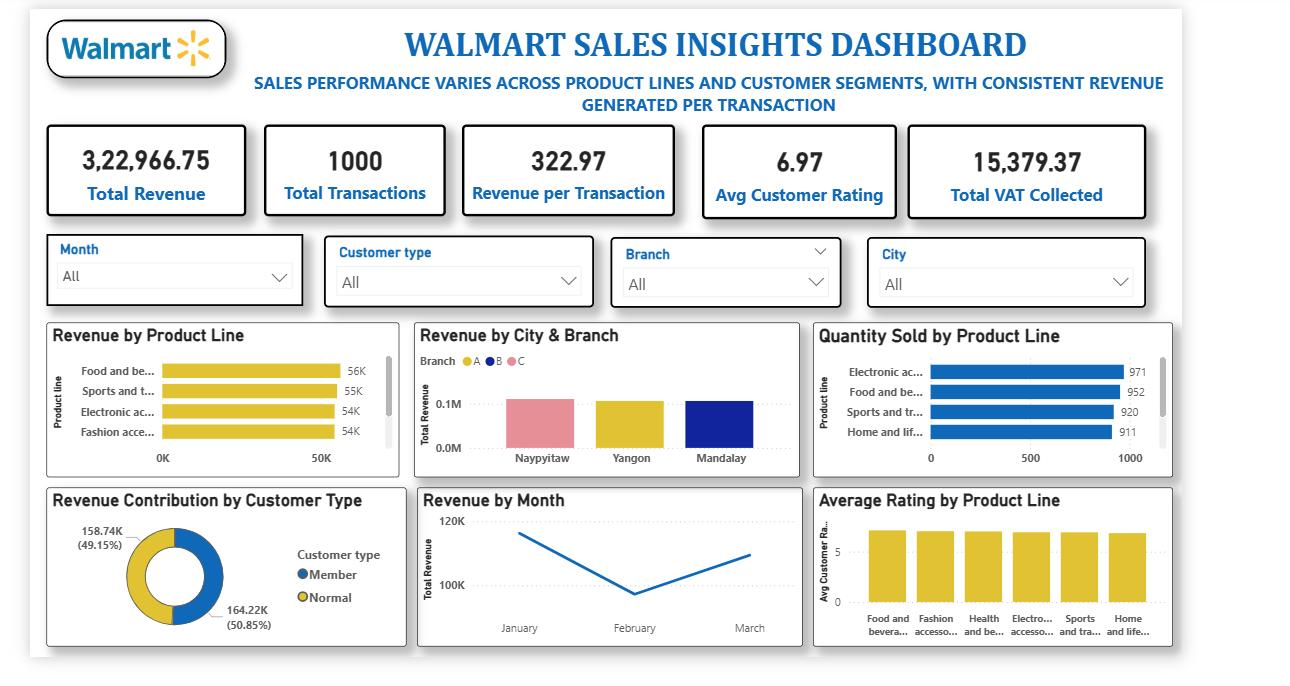

Layout of this report page (visuals, bound fields, positions):
{"tool":"powerbi","page":{"name":"Page 1","canvas":[1280,720],"ordinal":0},"visuals":[{"type":"barChart","title":"Revenue by Product Line","fields":{"Category":["WalmartSalesData.Product line"],"Y":["WalmartSalesData.Total_Revenue"]},"box":[18.3,348.3,391.7,171.7],"z":0},{"type":"lineChart","title":"Revenue by Month","fields":{"Category":["WalmartSalesData.Date.Variation.Date Hierarchy.Month"],"Y":["WalmartSalesData.Total_Revenue"]},"box":[430,531.7,428.3,176.7],"z":1000},{"type":"columnChart","title":"Revenue by City & Branch","fields":{"Category":["WalmartSalesData.City"],"Series":["WalmartSalesData.Branch"],"Y":["WalmartSalesData.Total_Revenue"]},"box":[426.7,348.3,428.3,171.7],"z":2000},{"type":"donutChart","title":"Revenue Contribution by Customer Type","fields":{"Category":["WalmartSalesData.Customer type"],"Y":["WalmartSalesData.Total_Revenue"]},"box":[18.3,531.7,400,176.7],"z":3000},{"type":"barChart","title":"Quantity Sold by Product Line","fields":{"Y":["Sum(WalmartSalesData.Quantity)"],"Category":["WalmartSalesData.Product line"]},"box":[870,348.3,400,171.7],"z":4000},{"type":"columnChart","title":"Average Rating by Product Line","fields":{"Y":["WalmartSalesData.Average_Rating"],"Category":["WalmartSalesData.Product line"]},"box":[870,531.7,400,176.7],"z":5000},{"type":"slicer","fields":{"Values":["WalmartSalesData.Date.Variation.Date Hierarchy.Month"]},"box":[18.3,250,285,80],"z":6000},{"type":"slicer","fields":{"Values":["WalmartSalesData.Customer type"]},"box":[326.7,251.7,300,80],"z":7000},{"type":"card","fields":{"Values":["WalmartSalesData.Total_Revenue"]},"box":[18.3,128.3,221.7,101.7],"z":8000},{"type":"card","fields":{"Values":["WalmartSalesData.Total_Transactions"]},"box":[260,128.3,201.7,101.7],"z":9000},{"type":"card","fields":{"Values":["WalmartSalesData.Revenue per Transaction"]},"box":[480,128.3,236.7,101.7],"z":10000},{"type":"card","fields":{"Values":["WalmartSalesData.Average_Rating"]},"box":[746.7,128.3,216.7,105],"z":11000},{"type":"card","fields":{"Values":["WalmartSalesData.Total_VAT"]},"box":[975,128.3,265,105],"z":12000},{"type":"slicer","fields":{"Values":["WalmartSalesData.City"]},"box":[930,253.3,310,78.3],"z":13000},{"type":"slicer","fields":{"Values":["WalmartSalesData.Branch"]},"box":[645,253.3,256.7,78.3],"z":14000},{"type":"textbox","box":[271.7,11.7,980,65],"z":15000},{"type":"image","box":[18.3,11.7,200,65],"z":16000},{"type":"textbox","box":[240,63.3,1028.3,60],"z":17000}]}

Visuals, with their boxes in screenshot pixels (x1, y1, x2, y2):
"Revenue by Product Line" barChart: (x1=43, y1=322, x2=398, y2=478)
"Revenue by Month" lineChart: (x1=416, y1=488, x2=804, y2=648)
"Revenue by City & Branch" columnChart: (x1=413, y1=322, x2=801, y2=478)
"Revenue Contribution by Customer Type" donutChart: (x1=43, y1=488, x2=406, y2=648)
"Quantity Sold by Product Line" barChart: (x1=815, y1=322, x2=1177, y2=478)
"Average Rating by Product Line" columnChart: (x1=815, y1=488, x2=1177, y2=648)
slicer - WalmartSalesData.Date.Variation.Date Hierarchy.Month: (x1=43, y1=233, x2=301, y2=305)
slicer - WalmartSalesData.Customer type: (x1=323, y1=235, x2=594, y2=307)
card - WalmartSalesData.Total_Revenue: (x1=43, y1=123, x2=244, y2=215)
card - WalmartSalesData.Total_Transactions: (x1=262, y1=123, x2=445, y2=215)
card - WalmartSalesData.Revenue per Transaction: (x1=461, y1=123, x2=676, y2=215)
card - WalmartSalesData.Average_Rating: (x1=703, y1=123, x2=899, y2=218)
card - WalmartSalesData.Total_VAT: (x1=910, y1=123, x2=1150, y2=218)
slicer - WalmartSalesData.City: (x1=869, y1=236, x2=1150, y2=307)
slicer - WalmartSalesData.Branch: (x1=611, y1=236, x2=843, y2=307)
textbox: (x1=273, y1=17, x2=1160, y2=76)
image: (x1=43, y1=17, x2=225, y2=76)
textbox: (x1=244, y1=64, x2=1175, y2=118)
